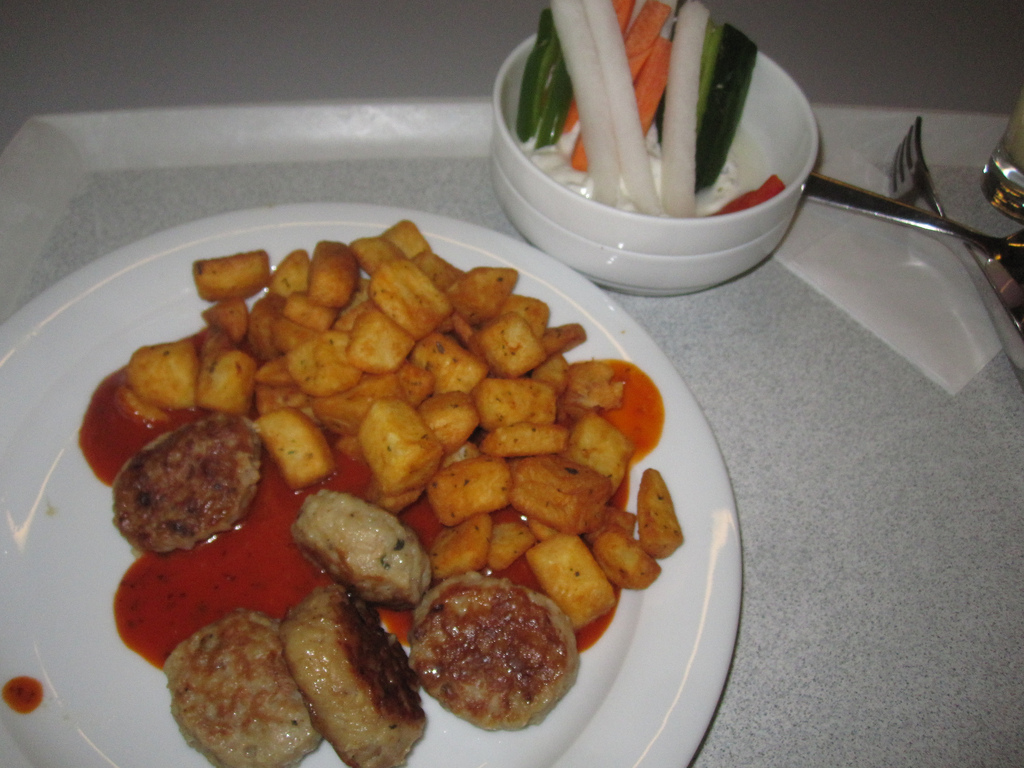boiled potatoes: (209, 272, 688, 590)
meatballs: (404, 569, 591, 735), (283, 580, 424, 768), (161, 601, 317, 768), (100, 418, 271, 554), (296, 489, 439, 606)
